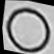no answer: (0, 1, 54, 54)
